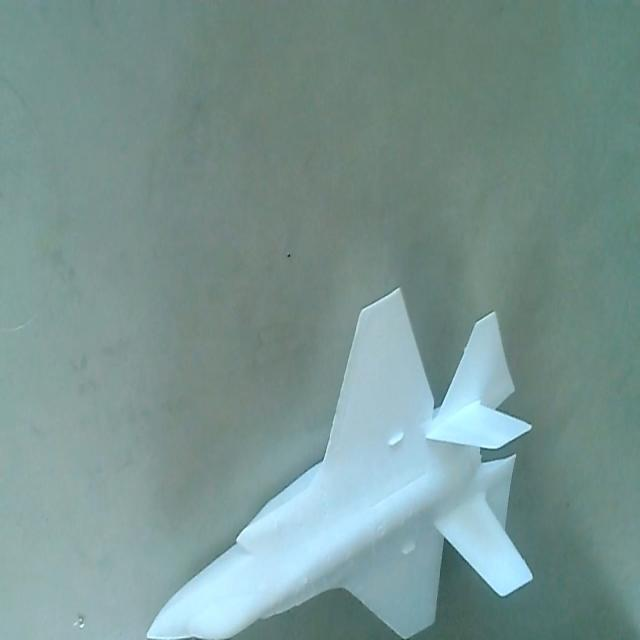Jet: (145, 282, 537, 640)
